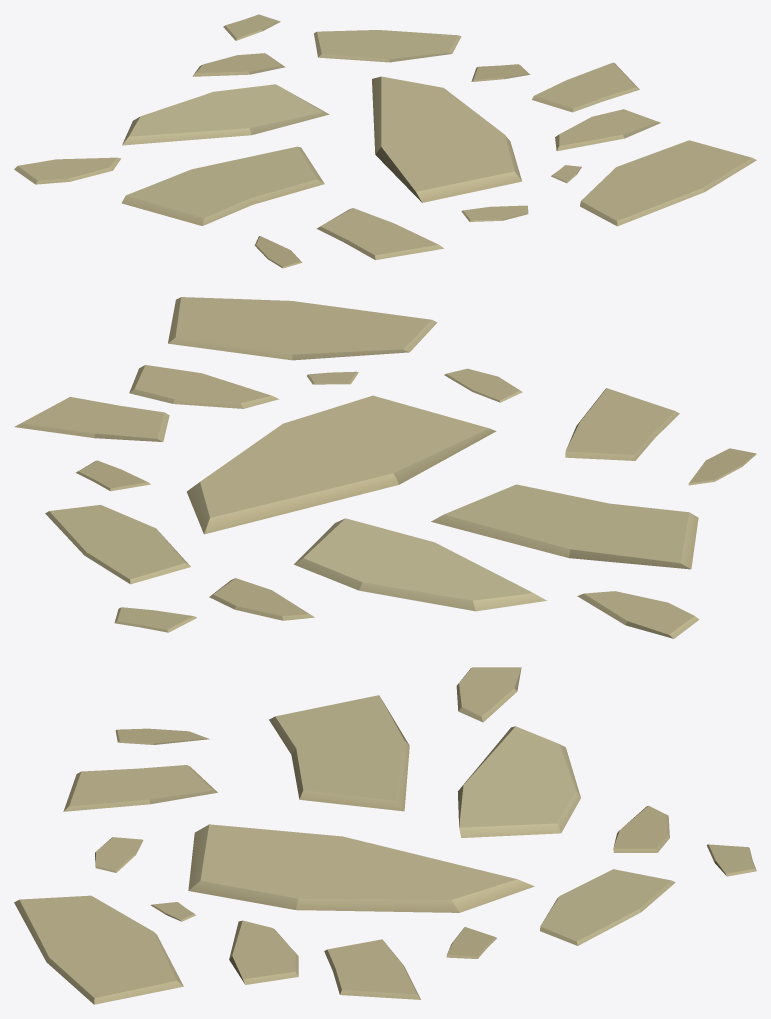
The model's file is Rock_Big_1.fbx.
The picture shows the model from 3 angles, top to bottom: view 1: azimuth 30°, elevation 25°; view 2: azimuth 150°, elevation 25°; view 3: azimuth 270°, elevation 25°; orthographic projection. The views are drawn at different scales.
Parts seen in each view (by area): view 1: rocks_big_1; view 2: rocks_big_1; view 3: rocks_big_1.
Boxes of the visible parts, x1,y1,x2,y2 form: rocks_big_1: [14, 14, 756, 268]; rocks_big_1: [14, 297, 756, 638]; rocks_big_1: [14, 667, 756, 1004].
Size of the model in its own units: 894 by 14.14 by 835.
1 material, 1 textured.
